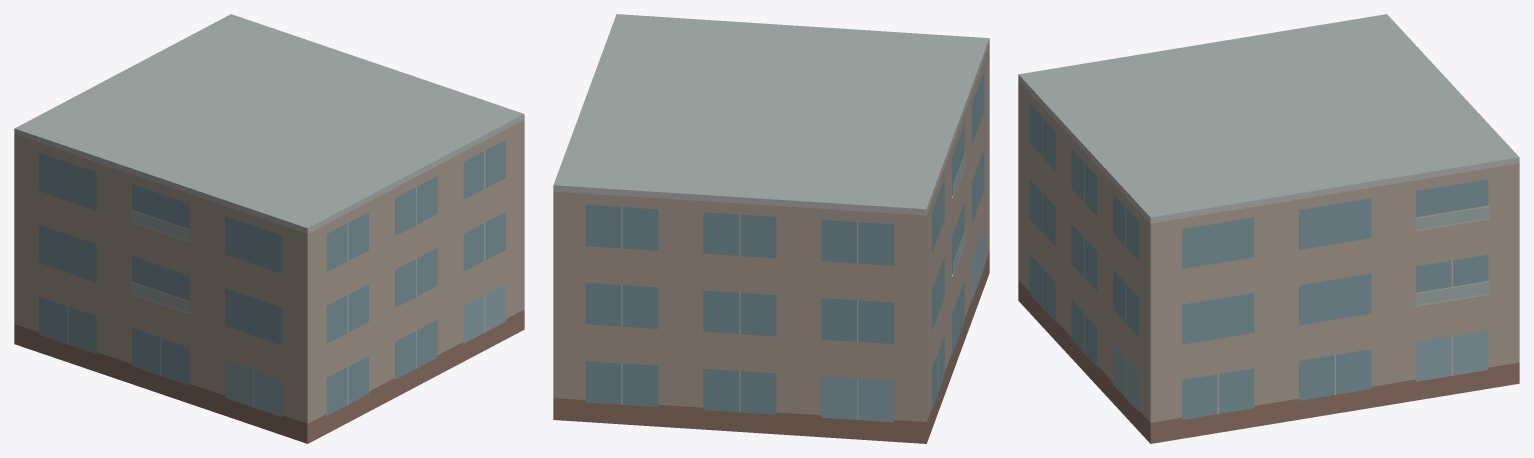
File: survey-upis-32882734.glb
3 views of the same model, side by side, from view 1: azimuth 30°, elevation 25°; view 2: azimuth 150°, elevation 25°; view 3: azimuth 270°, elevation 25° (orthographic). The views are drawn at different scales.
Visible parts, largest first — view 1: survey-upis-32882734.tmp; view 2: survey-upis-32882734.tmp; view 3: survey-upis-32882734.tmp.
Part boxes in pixels (x1,y1,x2,y2): survey-upis-32882734.tmp: (14,14,524,443); survey-upis-32882734.tmp: (553,14,989,443); survey-upis-32882734.tmp: (1018,14,1519,443).
Bounding box in the file's own units: 17.57 × 9.1 × 18.28.
